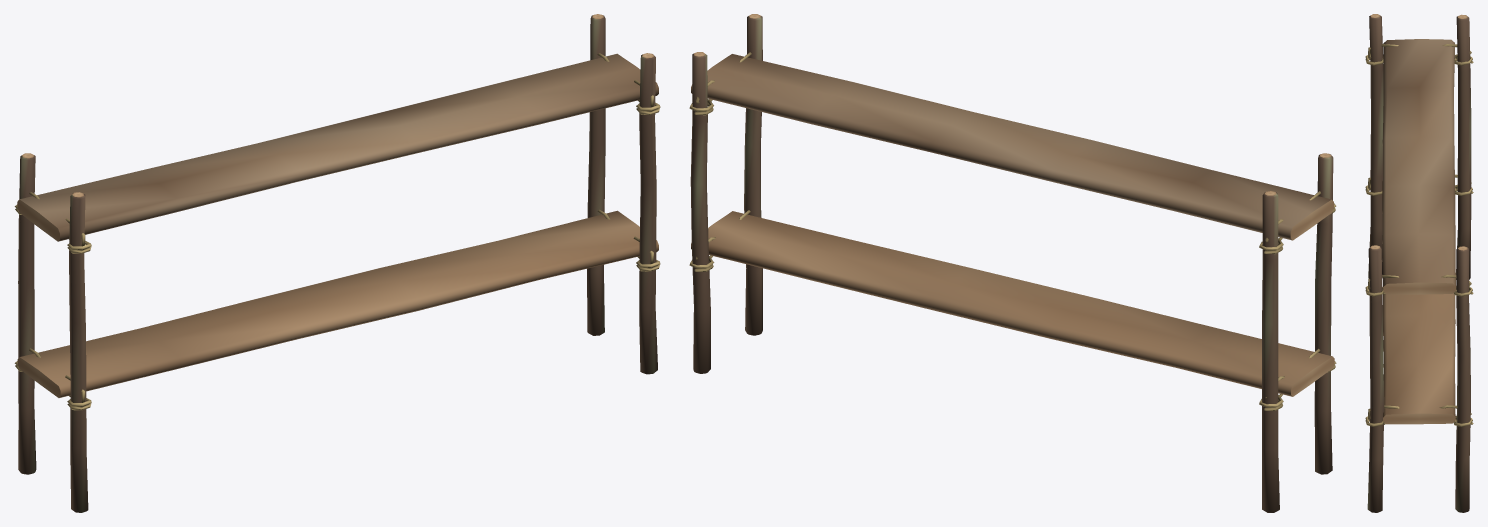
Rendered from shelf.glb.
3 renders of one model, left to right at view 1: azimuth 30°, elevation 25°; view 2: azimuth 150°, elevation 25°; view 3: azimuth 270°, elevation 25°, orthographic. The views are drawn at different scales.
Parts seen in each view (by area): view 1: Part_05, Part_04, Part_01, Part_00, Part_02, Part_03, Part_06; view 2: Part_05, Part_04, Part_02, Part_03, Part_00, Part_01, Part_06; view 3: Part_05, Part_04, Part_01, Part_03, Part_02, Part_00, Part_06.
Boxes of the visible parts, x1,y1,x2,y2 form: Part_05: (17, 53, 658, 241); Part_04: (17, 210, 658, 397); Part_01: (639, 53, 657, 374); Part_00: (69, 192, 88, 512); Part_02: (18, 153, 36, 474); Part_03: (587, 14, 605, 335); Part_06: (14, 53, 660, 410); Part_05: (691, 54, 1333, 240); Part_04: (691, 211, 1334, 396); Part_02: (1262, 191, 1279, 512); Part_03: (690, 52, 710, 373); Part_00: (1314, 153, 1333, 474); Part_01: (744, 14, 762, 335); Part_06: (689, 52, 1336, 410); Part_05: (1382, 39, 1455, 294); Part_04: (1382, 181, 1455, 424); Part_01: (1367, 245, 1384, 512); Part_03: (1455, 246, 1470, 512); Part_02: (1456, 14, 1471, 279); Part_00: (1368, 14, 1383, 278); Part_06: (1365, 44, 1473, 426).
Bounding box in the file's own units: 2 × 1.01 × 0.3759.
